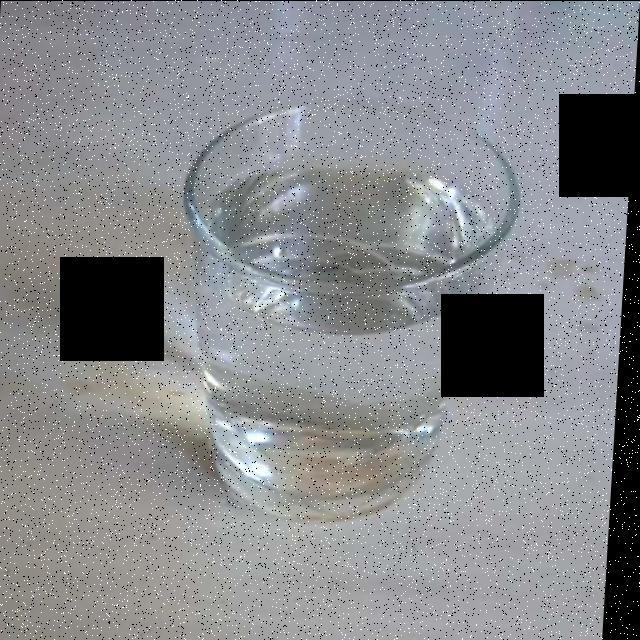water: (200, 169, 490, 492)
